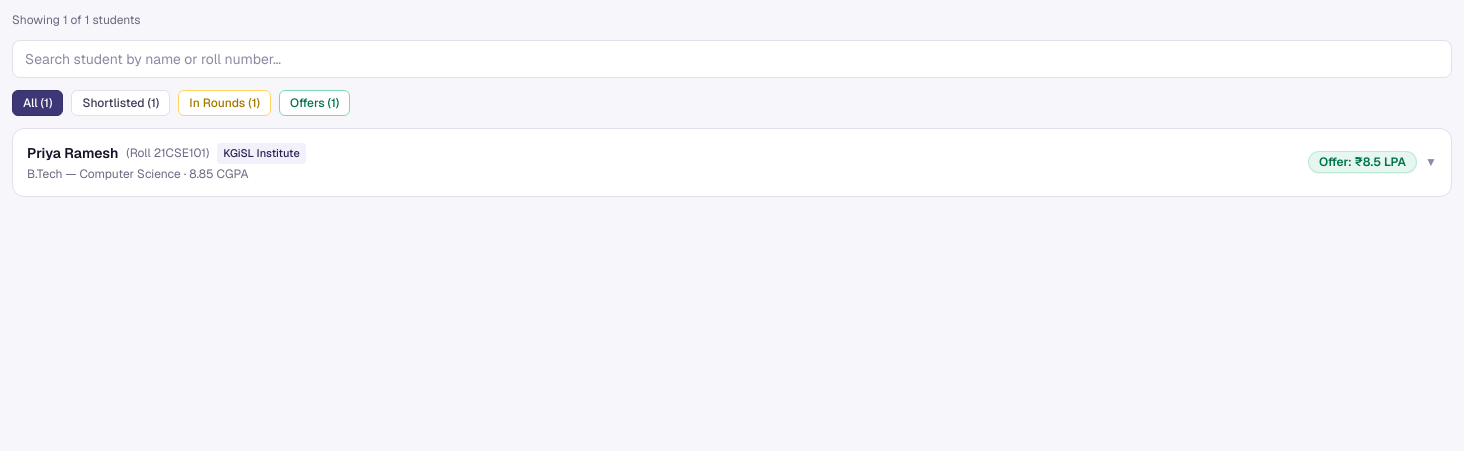
it: the one-role roster › offers no record link for a row whose student could not be read
Click the button "Priya Ramesh". click: (73, 153)
box: [13, 129, 1451, 196]
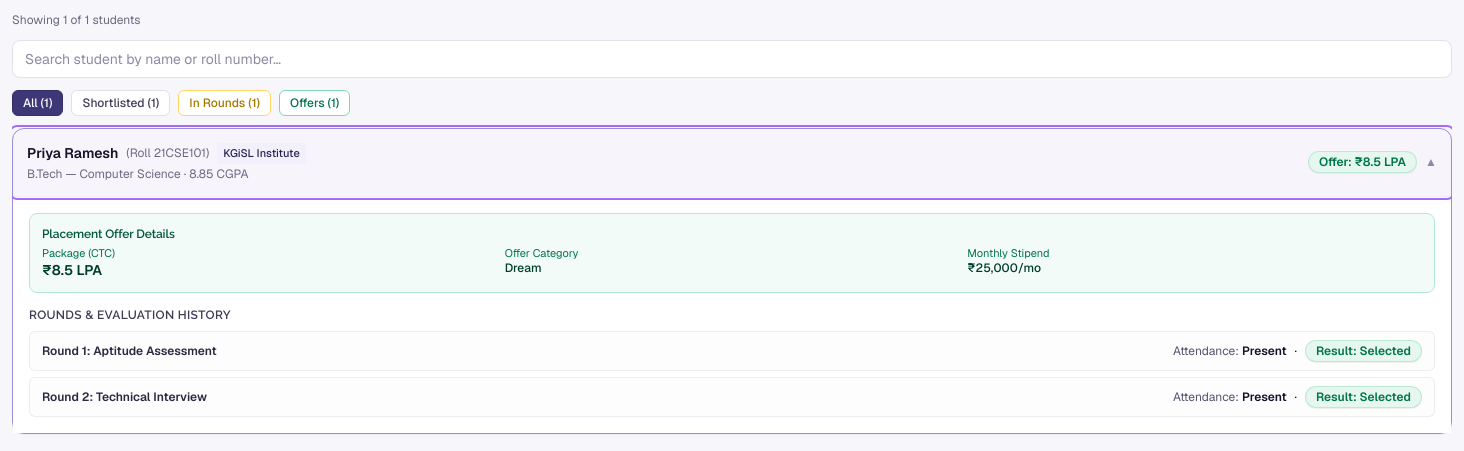
Check: the text "Round 1: Aptitude Assessment" is shown, box [42, 343, 217, 359]
